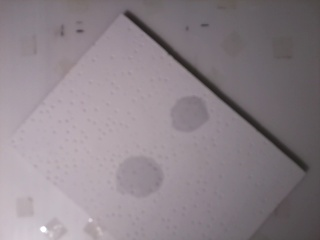Water_detected: (128, 161, 166, 193), (176, 99, 206, 136)
